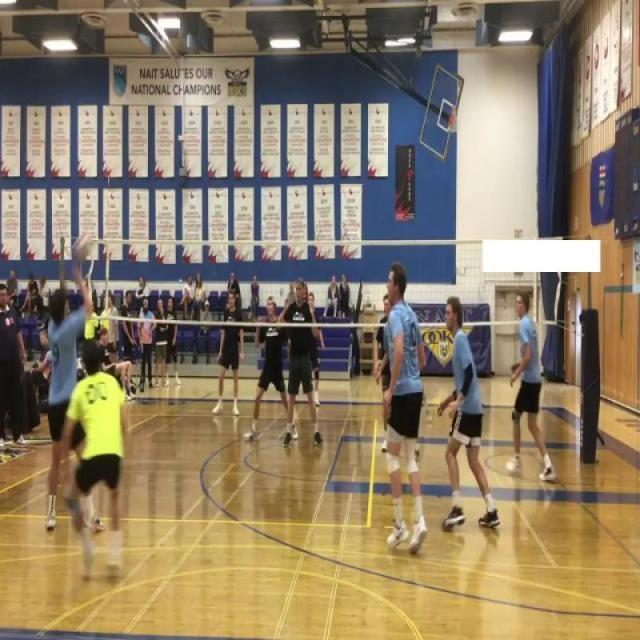volleyball: (73, 231, 94, 259)
